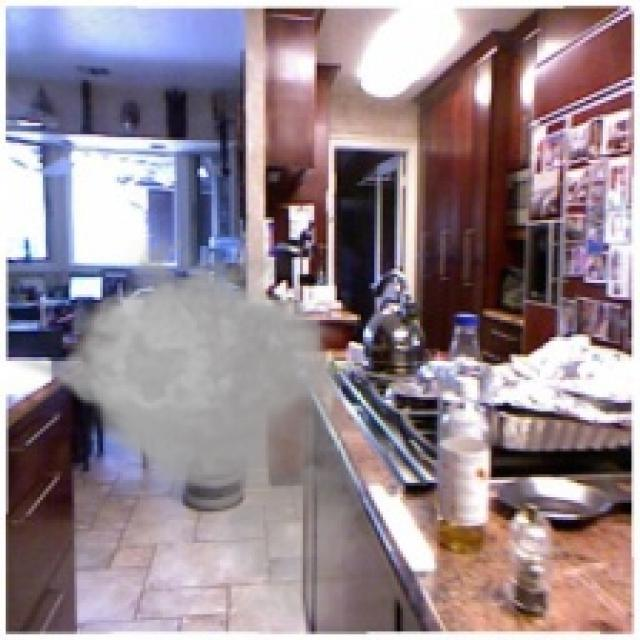Smoke: (8, 222, 383, 634)
